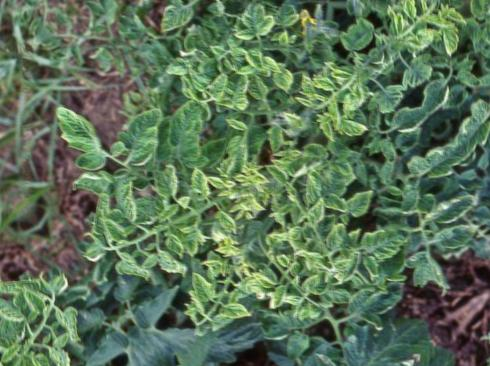Tomato mold leaf: (330, 281, 447, 366), (30, 91, 121, 184), (148, 92, 226, 170), (109, 94, 185, 169), (399, 127, 474, 202), (392, 241, 461, 311), (411, 179, 479, 245), (294, 155, 360, 220), (424, 206, 490, 271), (355, 211, 415, 270), (62, 154, 120, 212), (103, 168, 158, 225), (222, 0, 280, 51), (381, 96, 435, 149), (335, 179, 386, 228), (147, 0, 198, 45), (328, 105, 369, 146), (179, 163, 219, 203), (200, 68, 237, 105), (258, 120, 295, 157), (267, 65, 302, 101)
